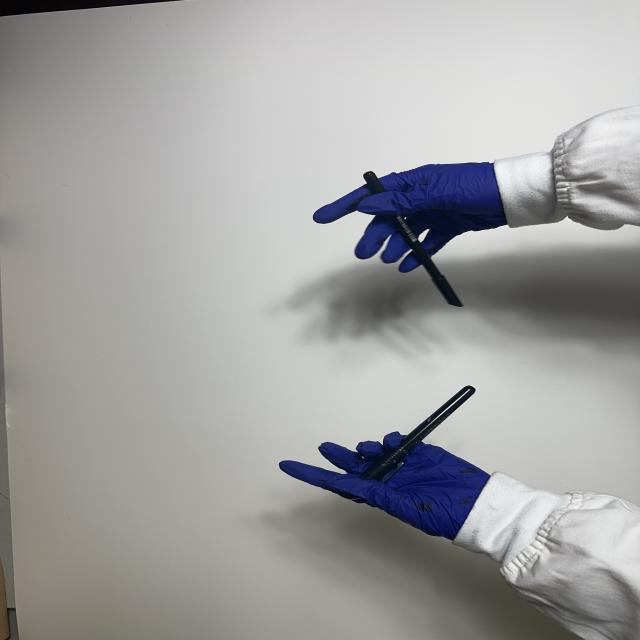gloves_contaminated: (280, 432, 490, 540), (314, 163, 507, 263)
